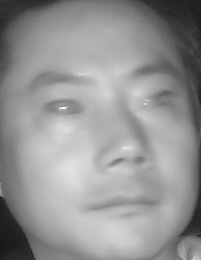eye: (42, 96, 87, 122), (139, 89, 177, 113)
mouth: (85, 185, 155, 225)
